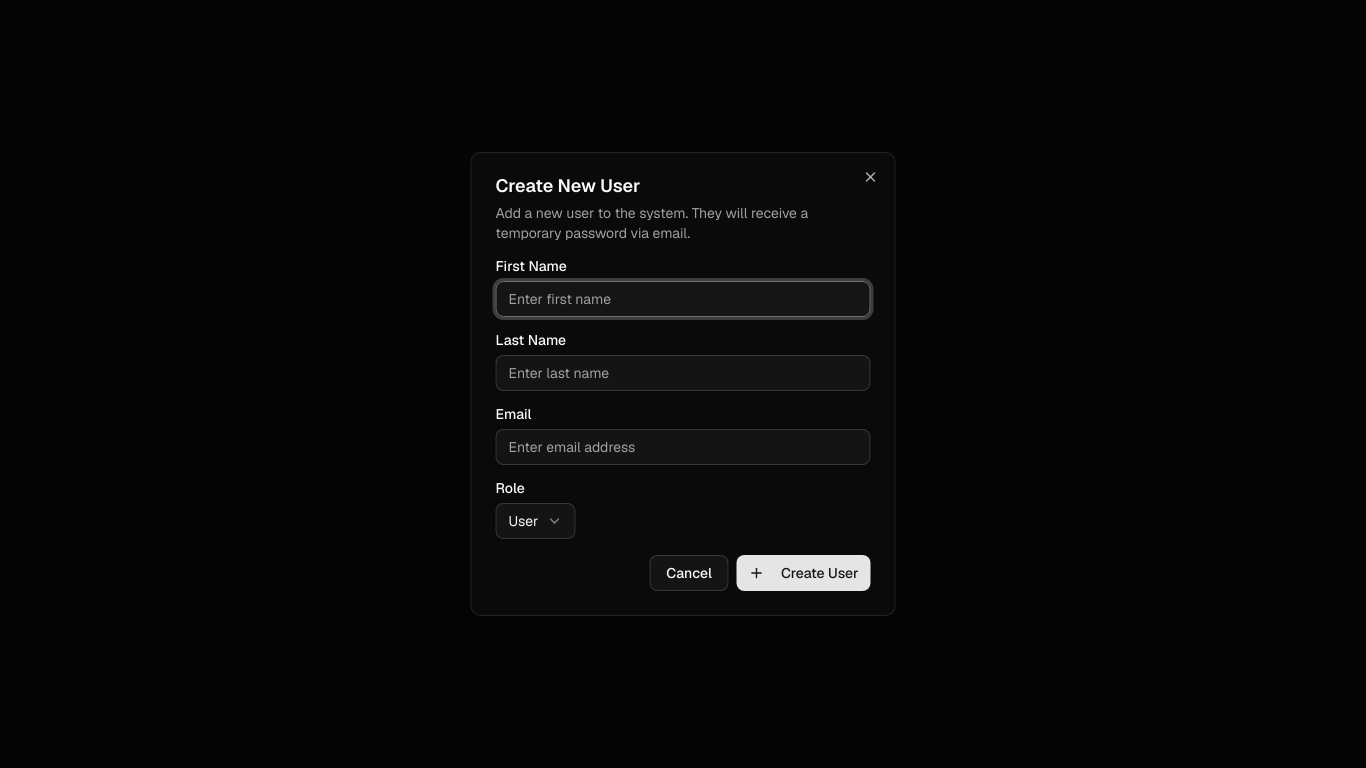
User Type Management › UserCreateForm › should validate required fields
This screenshot has width=1366, height=768.
Click the button "Create User" at (804, 573), box [737, 555, 870, 591]
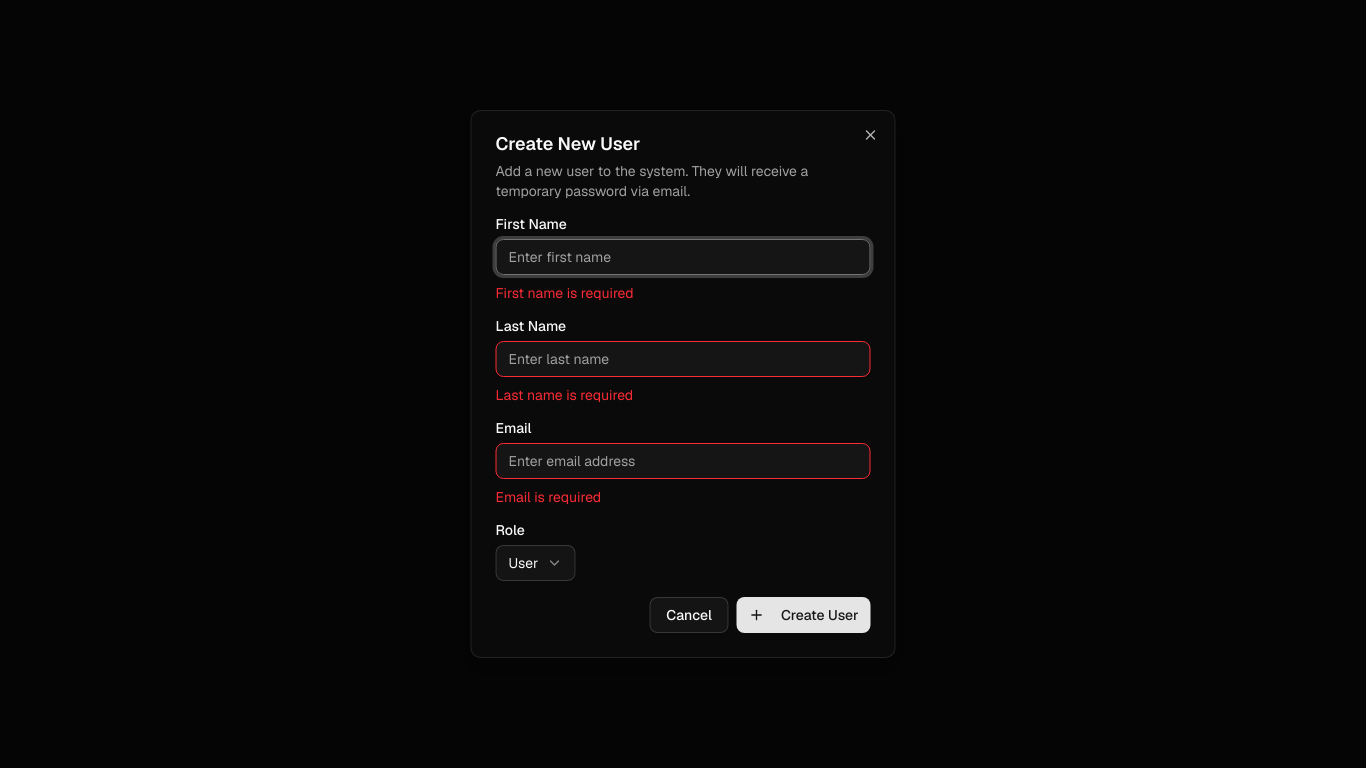
Expected: the text "First name is required" is shown, [496, 284, 634, 302]
Expected: the text "Last name is required" is shown, [496, 386, 633, 404]
Expected: the text "Email is required" is shown, [496, 488, 601, 506]
